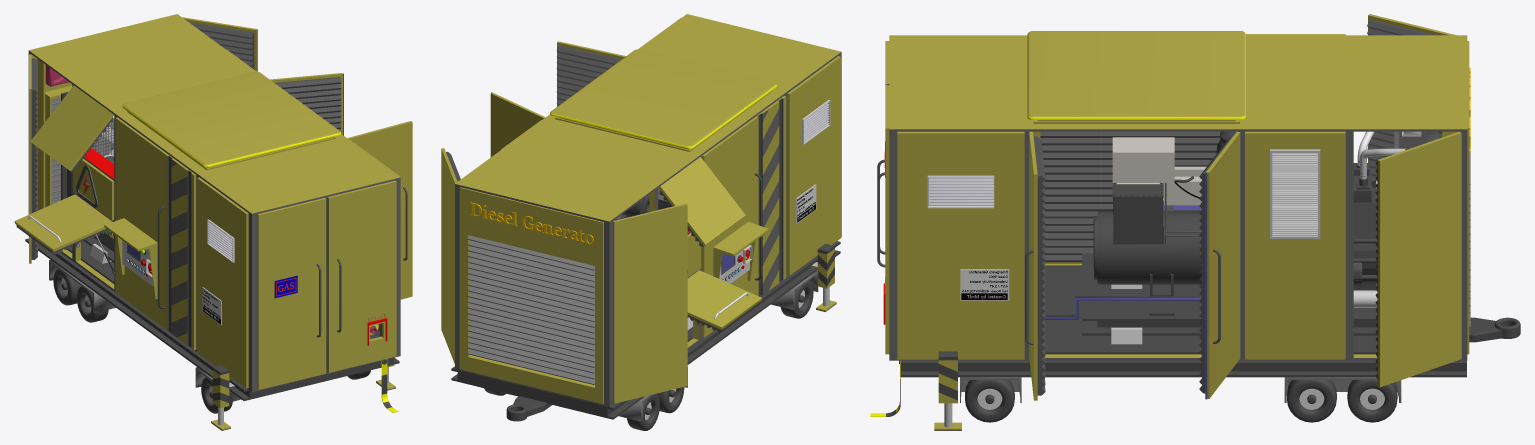
File: diesel_generator.glb
3 views of the same model, side by side, from view 1: azimuth 30°, elevation 25°; view 2: azimuth 150°, elevation 25°; view 3: azimuth 270°, elevation 25° (orthographic). The views are drawn at different scales.
Visible parts, largest first — view 1: Material2 (×11); view 2: Material2 (×10); view 3: Material2 (×13).
Boxes of the visible parts, left/top/right/bottom form: Material2 (×11): left=14, top=14, right=412, bottom=430; Material2 (×10): left=441, top=14, right=841, bottom=430; Material2 (×13): left=870, top=14, right=1520, bottom=430.
Size of the model in its own units: 137 by 110 by 214.
